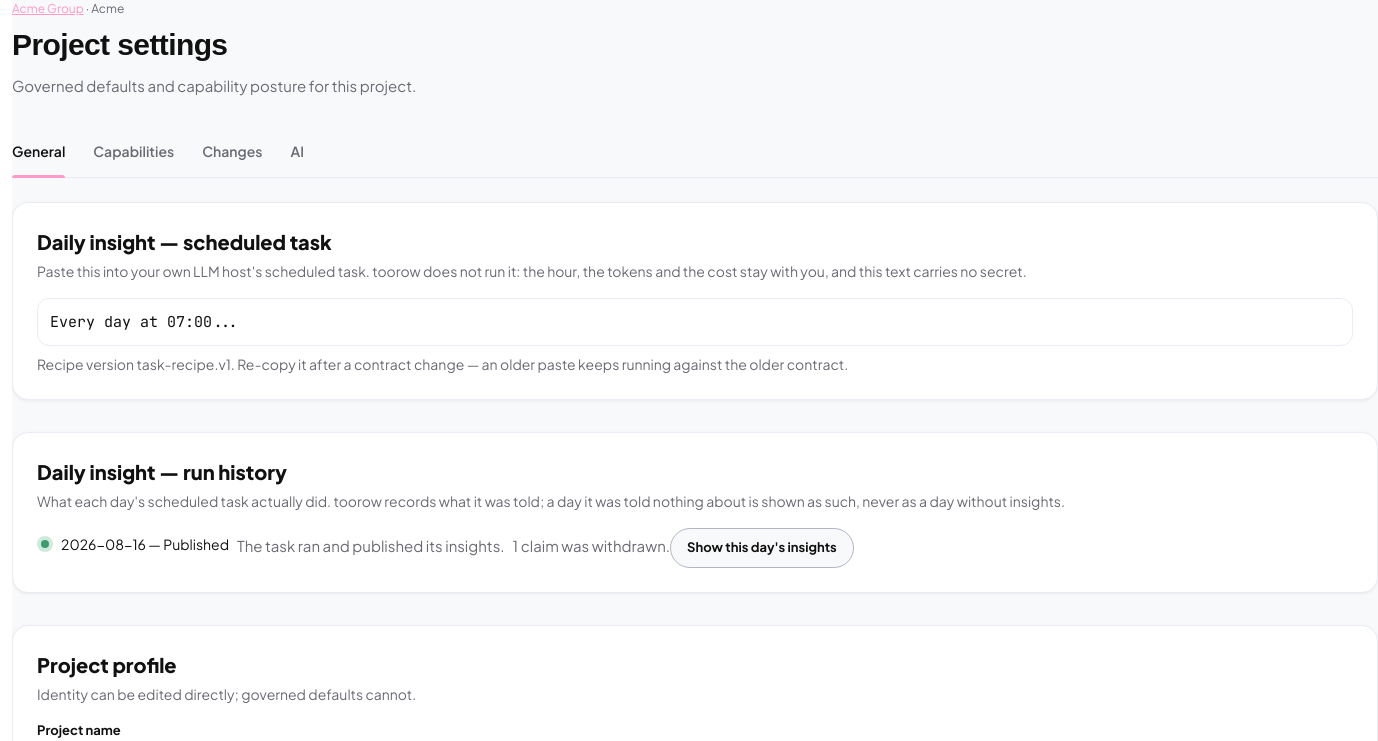
Test case: names why an insight is not shareable, and offers no control that would fail
Click the button with test id "daily-insight-open-2026-08-16".
click(762, 548)  # box [670,528,854,568]
(page scrolled)
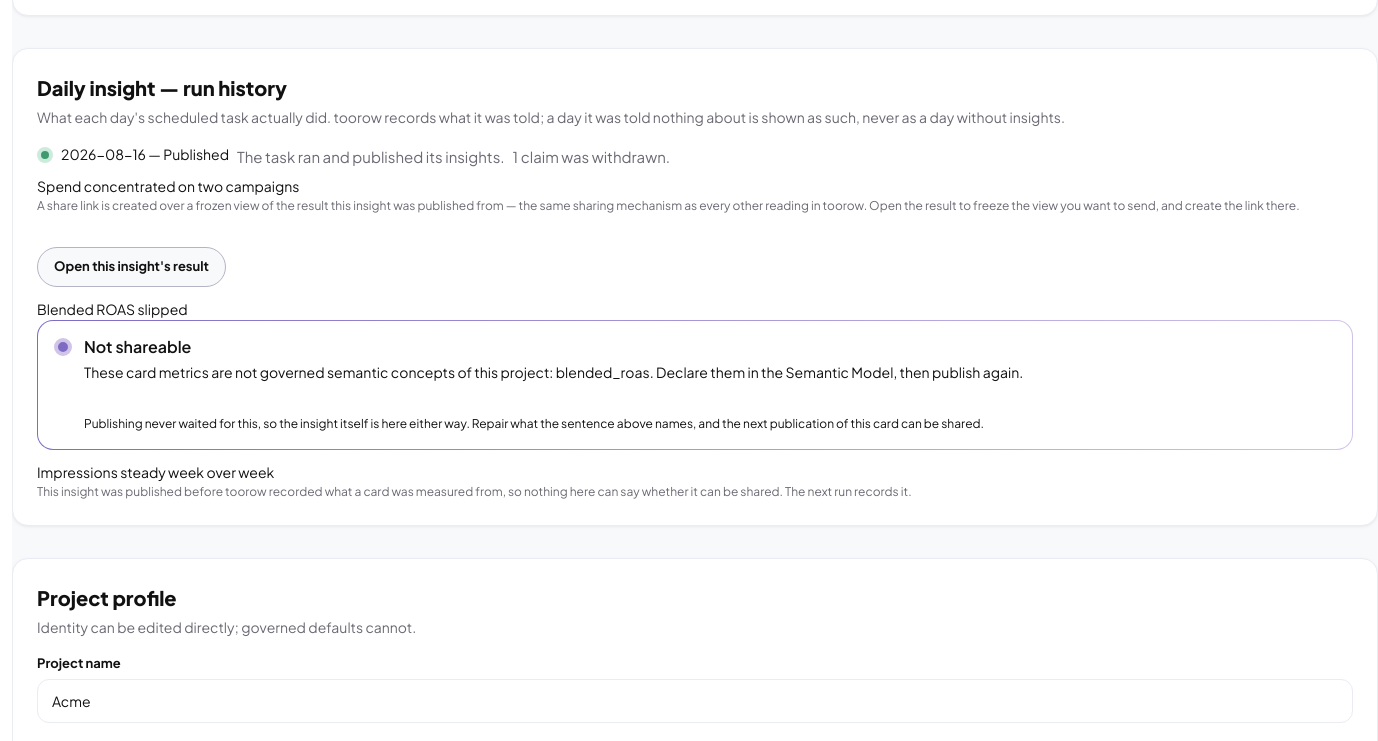
Expected: the message with test id "insight-not-shareable-din_REFUSED" shows "Not shareable", [84,336,191,357]
Expected: the message with test id "insight-not-shareable-din_REFUSED" shows "not governed semantic concepts", [84,363,1023,381]
Expected: the message with test id "insight-not-shareable-din_REFUSED" shows "Declare them in the Semantic Model", [84,363,1023,381]
